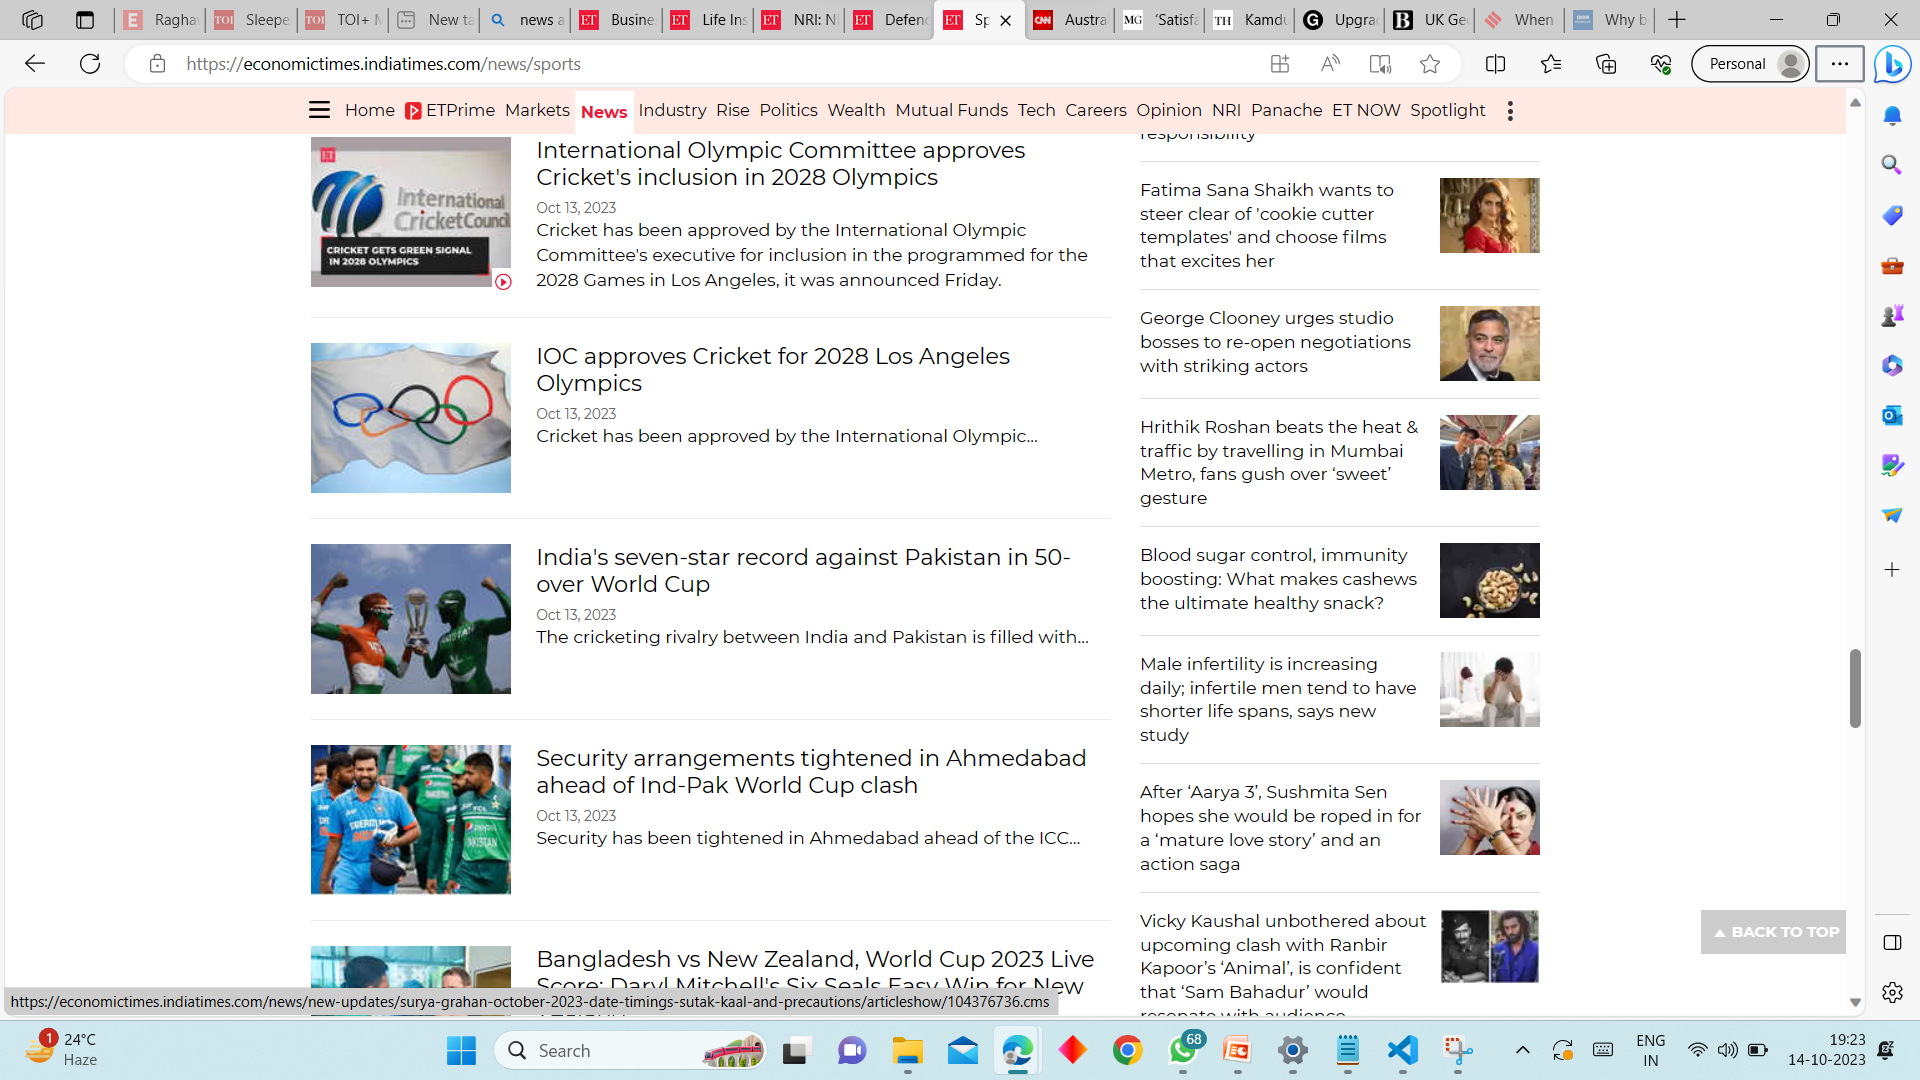Image: (313, 547, 517, 717), (306, 738, 521, 897), (302, 334, 508, 495), (311, 136, 510, 290), (311, 945, 514, 993), (1436, 539, 1545, 617), (1447, 907, 1536, 993), (1440, 179, 1540, 253), (1443, 781, 1547, 849), (1440, 306, 1536, 380), (1443, 662, 1545, 729), (1444, 421, 1534, 485)
Paragraph: (541, 525, 1062, 624), (539, 936, 1125, 1022), (527, 740, 1112, 823), (524, 225, 1100, 306), (530, 331, 1022, 422), (521, 138, 1035, 219), (1131, 774, 1436, 874), (1134, 174, 1415, 282), (1125, 405, 1427, 505), (1125, 913, 1427, 1010), (525, 825, 1109, 872), (1138, 659, 1420, 752), (534, 620, 1098, 666), (1129, 539, 1420, 624), (1138, 306, 1420, 378), (533, 430, 1054, 465)
